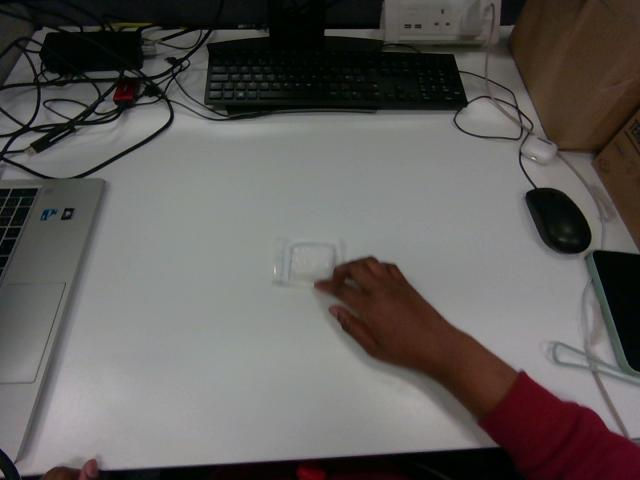gauze: (273, 238, 343, 285)
